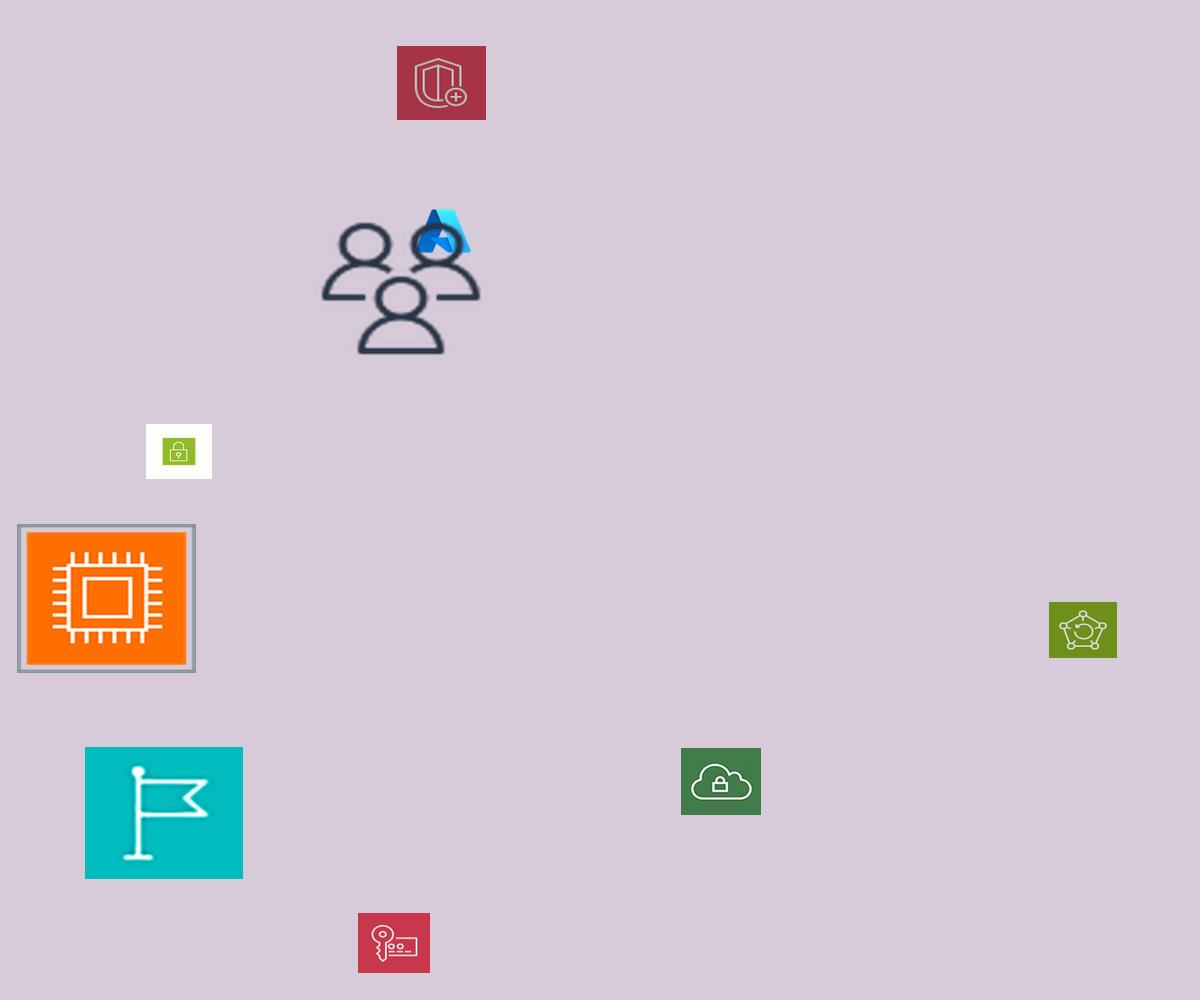AWS-Backup: (1049, 602, 1117, 658)
AWS-Category_Compute: (17, 524, 196, 673)
AWS-Key-Management-Service: (358, 913, 430, 973)
AWS-Private_vpc: (681, 748, 761, 815)
AWS-Public-subnet: (146, 424, 212, 479)
AWS-Region: (85, 747, 243, 879)
AWS-Res_Users: (315, 217, 487, 360)
AWS-Shield: (397, 46, 486, 120)
Azure_services: (413, 206, 473, 256)
